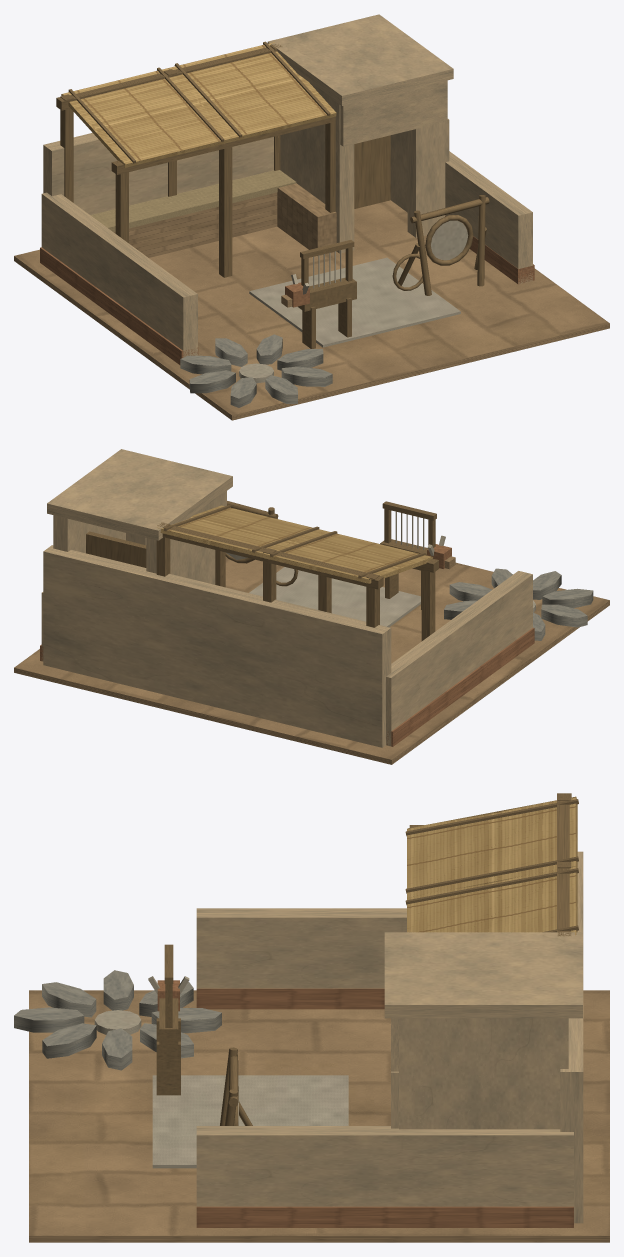
Rendered from musicHouse.glb.
3 renders of one model, top to bottom at view 1: azimuth 30°, elevation 25°; view 2: azimuth 150°, elevation 25°; view 3: azimuth 270°, elevation 25°, orthographic. The views are drawn at different scales.
Visible parts, largest first — view 1: music-courtyard-warm-clay-plaster, music-courtyard-game-raw-brick-facing, music-courtyard-worn-timber, music-courtyard-laid-reed-thatch, music-courtyard-woven-linen, music-courtyard-bank-stone, music-courtyard-game-fired-brick-facing, music-courtyard-reed-mat; view 2: music-courtyard-warm-clay-plaster, music-courtyard-game-raw-brick-facing, music-courtyard-worn-timber, music-courtyard-laid-reed-thatch, music-courtyard-woven-linen, music-courtyard-bank-stone, music-courtyard-game-fired-brick-facing; view 3: music-courtyard-warm-clay-plaster, music-courtyard-game-raw-brick-facing, music-courtyard-laid-reed-thatch, music-courtyard-game-fired-brick-facing, music-courtyard-woven-linen, music-courtyard-bank-stone, music-courtyard-worn-timber.
Boxes of the visible parts, x1=… form: music-courtyard-warm-clay-plaster: x1=41, y1=14, x2=532, y2=357; music-courtyard-game-raw-brick-facing: x1=14, y1=183, x2=609, y2=420; music-courtyard-worn-timber: x1=56, y1=41, x2=489, y2=348; music-courtyard-laid-reed-thatch: x1=61, y1=42, x2=336, y2=167; music-courtyard-woven-linen: x1=239, y1=220, x2=468, y2=383; music-courtyard-bank-stone: x1=180, y1=334, x2=332, y2=407; music-courtyard-game-fired-brick-facing: x1=40, y1=215, x2=534, y2=364; music-courtyard-reed-mat: x1=90, y1=170, x2=296, y2=232; music-courtyard-warm-clay-plaster: x1=41, y1=449, x2=532, y2=747; music-courtyard-game-raw-brick-facing: x1=14, y1=556, x2=609, y2=764; music-courtyard-worn-timber: x1=86, y1=501, x2=439, y2=641; music-courtyard-laid-reed-thatch: x1=157, y1=505, x2=432, y2=583; music-courtyard-woven-linen: x1=226, y1=511, x2=535, y2=627; music-courtyard-bank-stone: x1=444, y1=568, x2=593, y2=640; music-courtyard-game-fired-brick-facing: x1=40, y1=544, x2=534, y2=746; music-courtyard-warm-clay-plaster: x1=196, y1=851, x2=583, y2=1223; music-courtyard-game-raw-brick-facing: x1=29, y1=990, x2=609, y2=1242; music-courtyard-laid-reed-thatch: x1=407, y1=796, x2=577, y2=935; music-courtyard-game-fired-brick-facing: x1=157, y1=980, x2=573, y2=1227; music-courtyard-woven-linen: x1=94, y1=976, x2=348, y2=1168; music-courtyard-bank-stone: x1=14, y1=970, x2=221, y2=1070; music-courtyard-worn-timber: x1=156, y1=793, x2=578, y2=1125.
Bounding box in the file's own units: 5.62 × 2.35 × 5.62.
8 materials, 8 textured.
